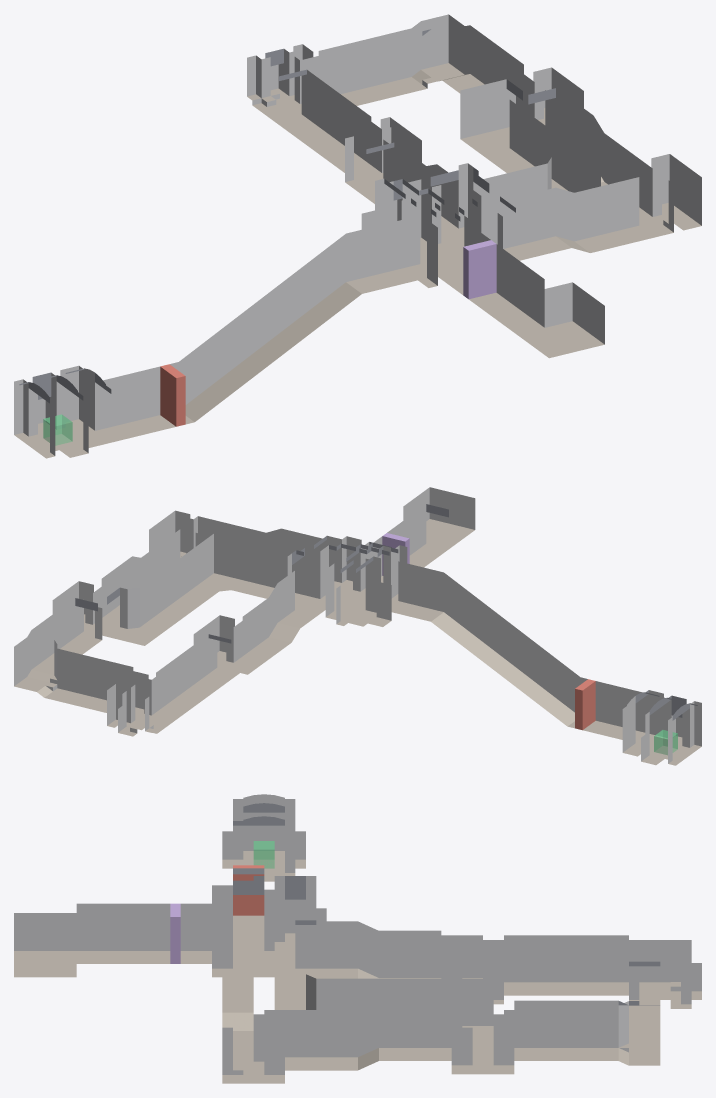
The model's file is outpost_09.glb.
3 views of the same model, one above another, from view 1: azimuth 30°, elevation 25°; view 2: azimuth 150°, elevation 25°; view 3: azimuth 270°, elevation 25° (orthographic). The views are drawn at different scales.
Parts seen in each view (by area): view 1: corridor:1, corridor:6, corridor:7, corridor:0, corridor:3, room:1/portals, room:2, room:6, corridor:5, corridor:4, room:1, entities (+12 smaller); view 2: corridor:1, corridor:7, corridor:6, room:1/portals, corridor:2, corridor:3, room:2, room:6, room:1, corridor:4, corridor:5, entities (+12 smaller); view 3: corridor:4, corridor:6, corridor:5, corridor:3, corridor:7, corridor:2, room:1, room:6, room:2, room:1/portals, room:4, entities (+13 smaller).
Part boxes in pixels (<box>): corridor:1: <box>95,220,417,442</box>; corridor:6: <box>318,14,523,109</box>; corridor:7: <box>460,79,600,200</box>; corridor:0: <box>500,181,636,260</box>; corridor:3: <box>279,69,371,171</box>; room:1/portals: <box>401,179,502,285</box>; room:2: <box>14,365,110,458</box>; room:6: <box>517,282,604,358</box>; corridor:5: <box>447,228,544,334</box>; corridor:4: <box>528,88,641,209</box>; room:1: <box>375,163,473,287</box>; entities: <box>43,240,496,445</box>; corridor:1: <box>391,561,648,742</box>; corridor:7: <box>107,533,304,645</box>; corridor:6: <box>14,598,133,712</box>; room:1/portals: <box>305,535,399,616</box>; corridor:2: <box>242,571,317,661</box>; corridor:3: <box>156,634,231,717</box>; room:2: <box>622,690,701,765</box>; room:6: <box>403,487,475,548</box>; room:1: <box>287,536,407,626</box>; corridor:4: <box>101,535,171,622</box>; corridor:5: <box>369,504,448,582</box>; entities: <box>382,533,677,755</box>; corridor:4: <box>285,1000,451,1070</box>; corridor:6: <box>514,961,660,1065</box>; corridor:5: <box>76,903,211,963</box>; corridor:3: <box>504,935,628,995</box>; corridor:7: <box>274,974,493,1047</box>; corridor:2: <box>316,921,441,978</box>; room:1: <box>212,876,316,986</box>; room:6: <box>14,913,76,977</box>; room:2: <box>233,794,295,881</box>; room:1/portals: <box>212,889,316,968</box>; room:4: <box>629,940,691,1008</box>; entities: <box>170,841,274,963</box>.
Size of the model in its own units: 70 by 16 by 66.
